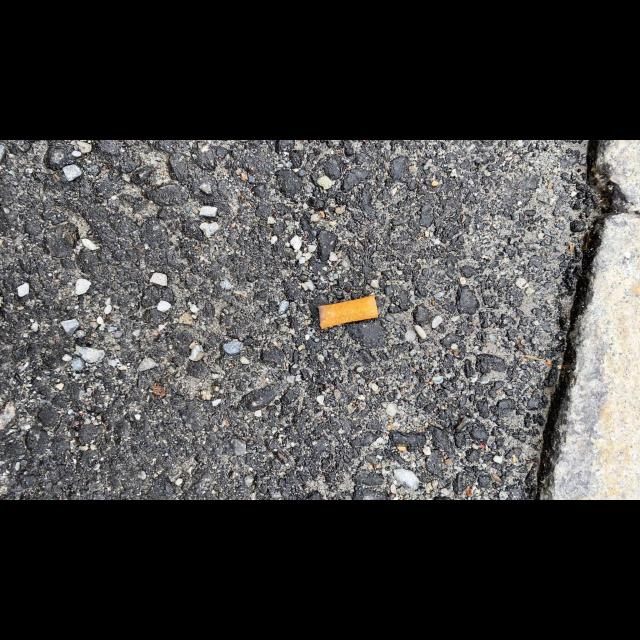cigarette: (317, 294, 379, 330)
